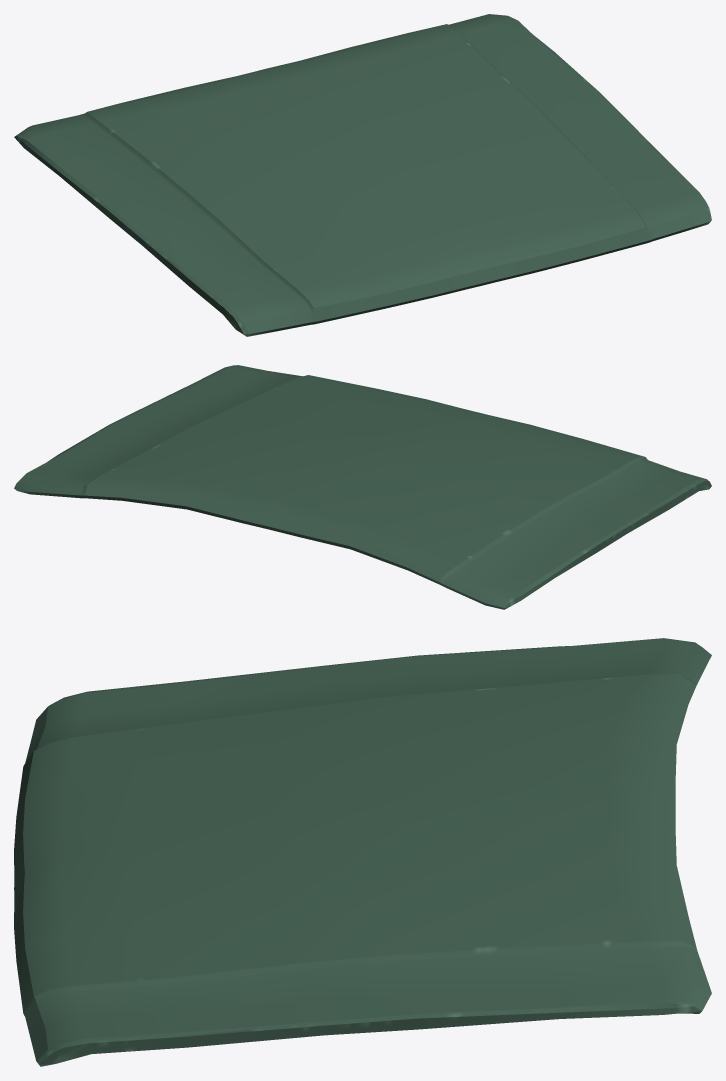
The model's file is Capo do carro.fbx.
The picture shows the model from 3 angles, top to bottom: view 1: azimuth 30°, elevation 25°; view 2: azimuth 150°, elevation 25°; view 3: azimuth 270°, elevation 25°; orthographic projection. The views are drawn at different scales.
Visible parts, largest first — view 1: Capo; view 2: Capo; view 3: Capo.
Boxes of the visible parts, box(x1,y1,x2,y2) form: Capo: box(14, 14, 711, 336); Capo: box(14, 365, 711, 609); Capo: box(14, 638, 711, 1066).
Bounding box in the file's own units: 146 × 18.49 × 117.
